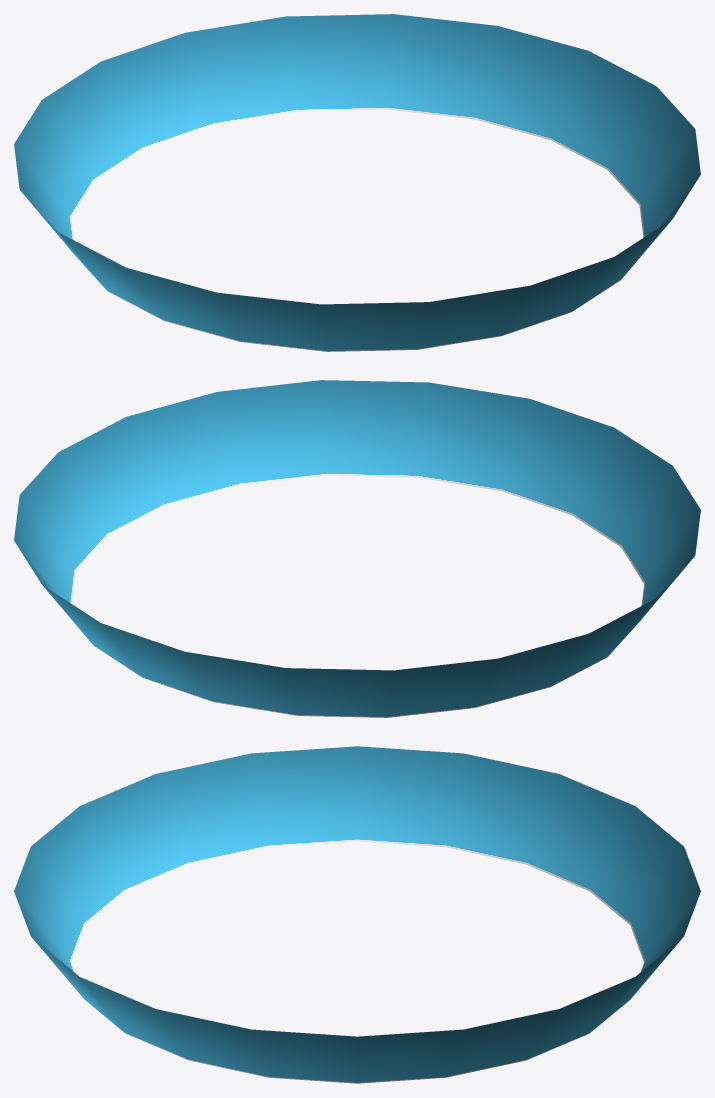
File: zone_Mesh.fbx
3 views of the same model, one above another, from view 1: azimuth 30°, elevation 25°; view 2: azimuth 150°, elevation 25°; view 3: azimuth 270°, elevation 25° (orthographic).
Parts seen in each view (by area): view 1: pCylinder3; view 2: pCylinder3; view 3: pCylinder3.
Boxes of the visible parts, x1=… form: pCylinder3: x1=14, y1=14, x2=700, y2=351; pCylinder3: x1=14, y1=380, x2=700, y2=717; pCylinder3: x1=14, y1=746, x2=700, y2=1083.
Bounding box in the file's own units: 3.22 × 0.3677 × 3.22.
